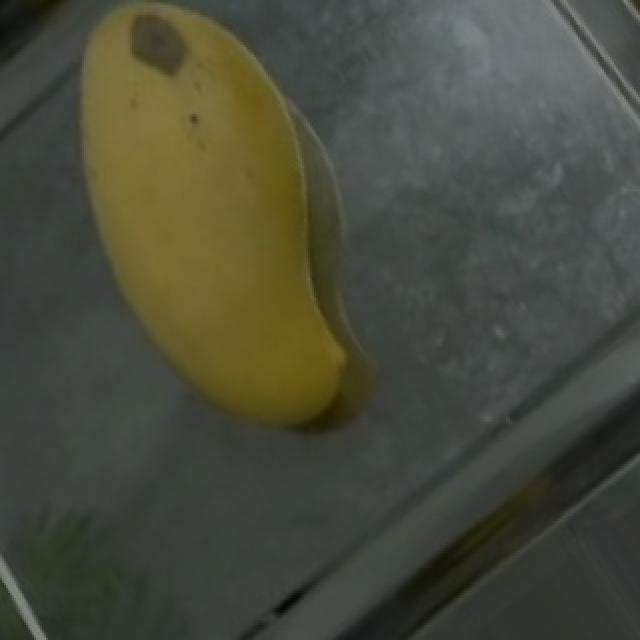fruit: (16, 0, 382, 340)
